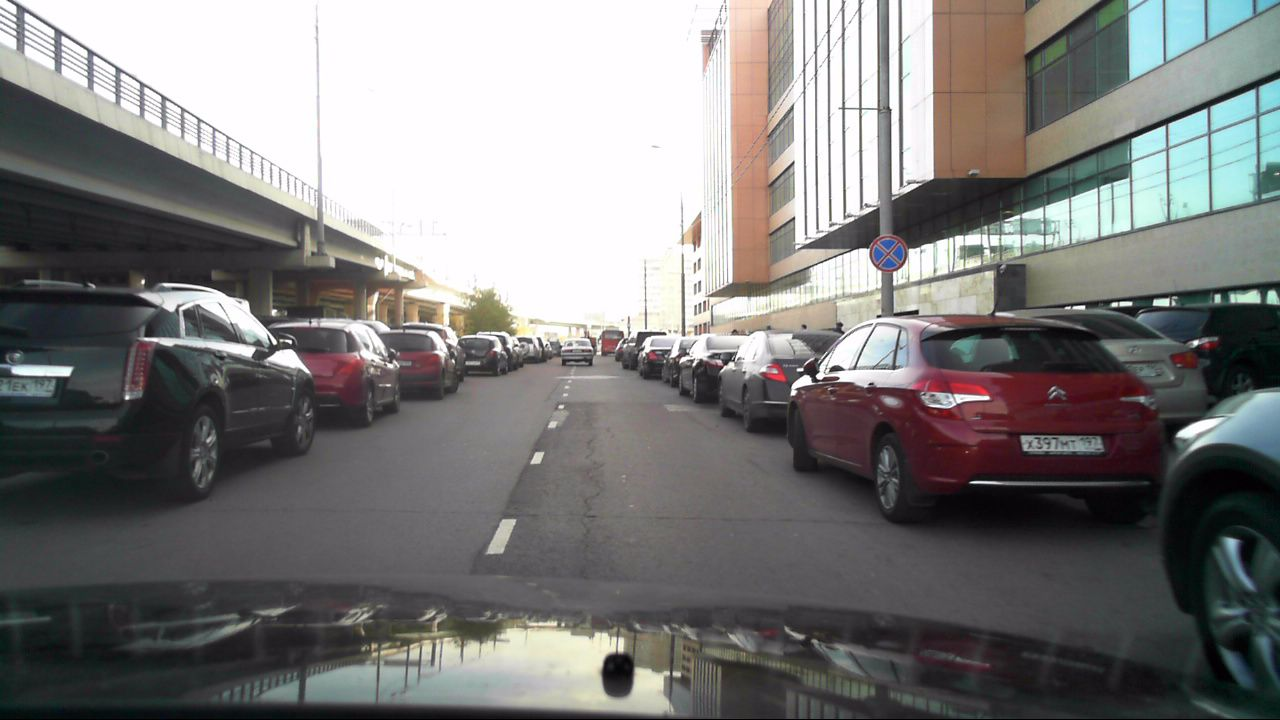No Parking: (868, 233, 909, 273)
